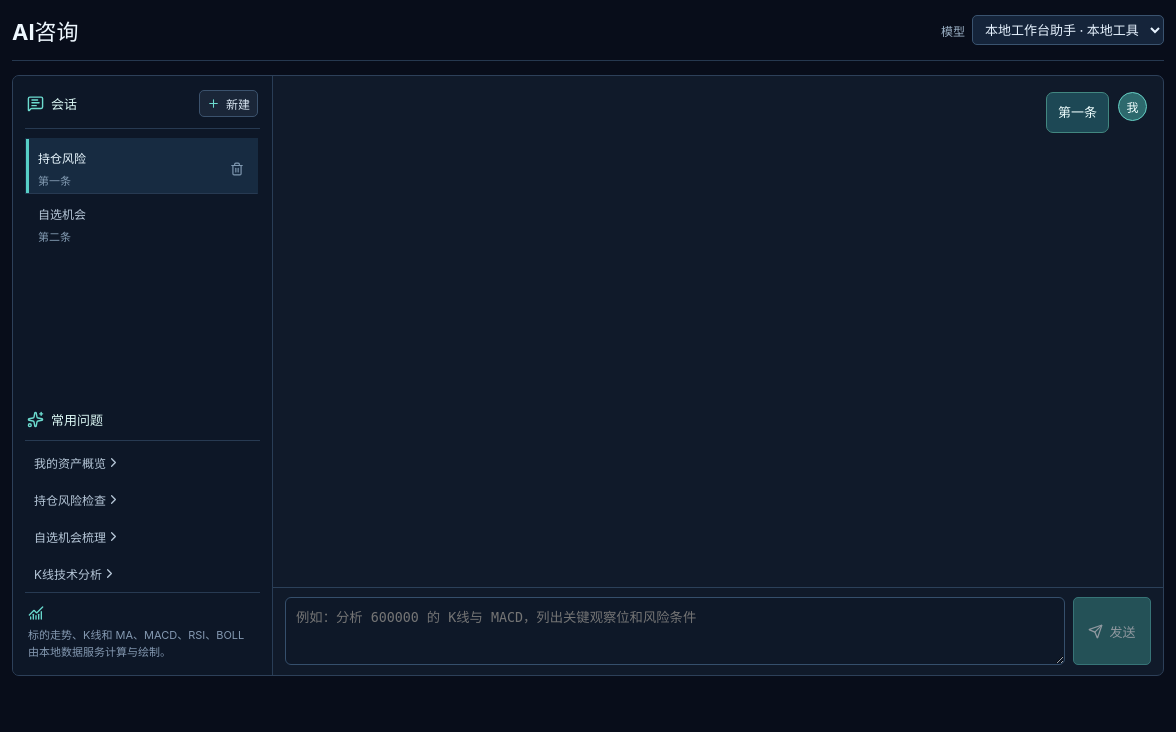
Test case: AiConsultationView › deletes the active conversation after confirmation and opens the next conversation
Click the button named "删除会话 持仓风险".
click(237, 168)  # box top-left (225, 156), bottom-right (249, 180)
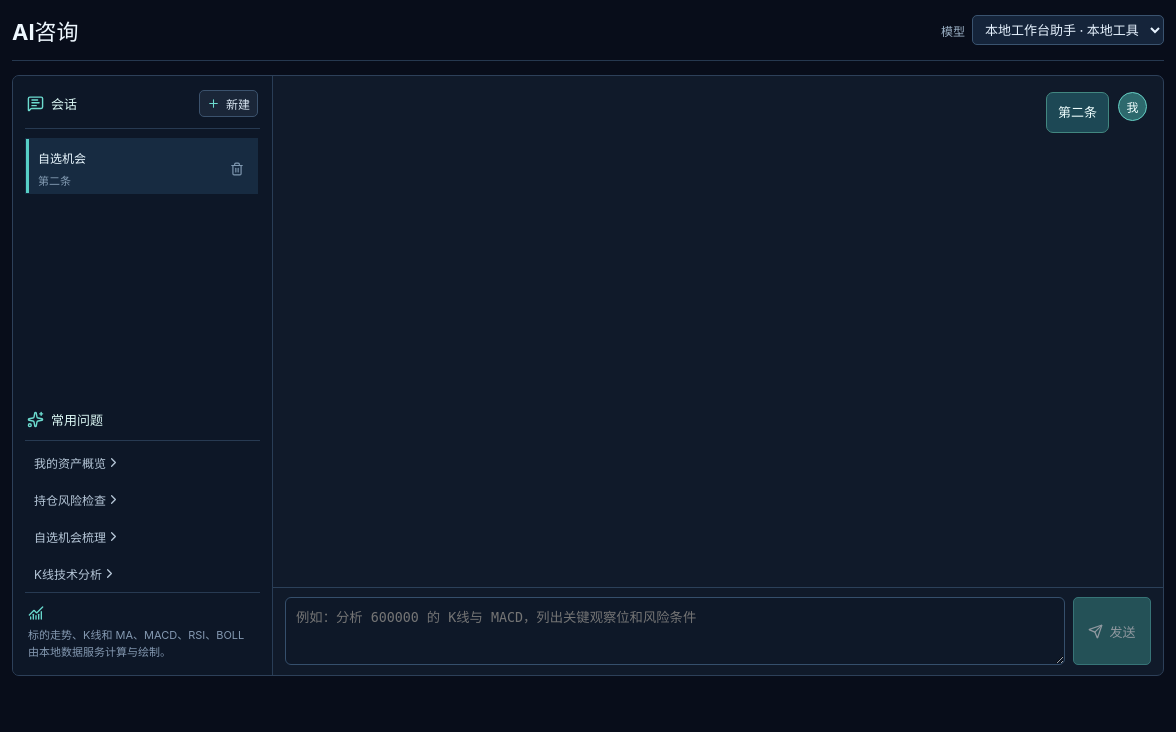
Result: the element with class "ai-conversation-list" no longer shows "持仓风险"
Result: the element with class "ai-message-list" shows "第二条" at top-left (1058, 104), bottom-right (1097, 120)
